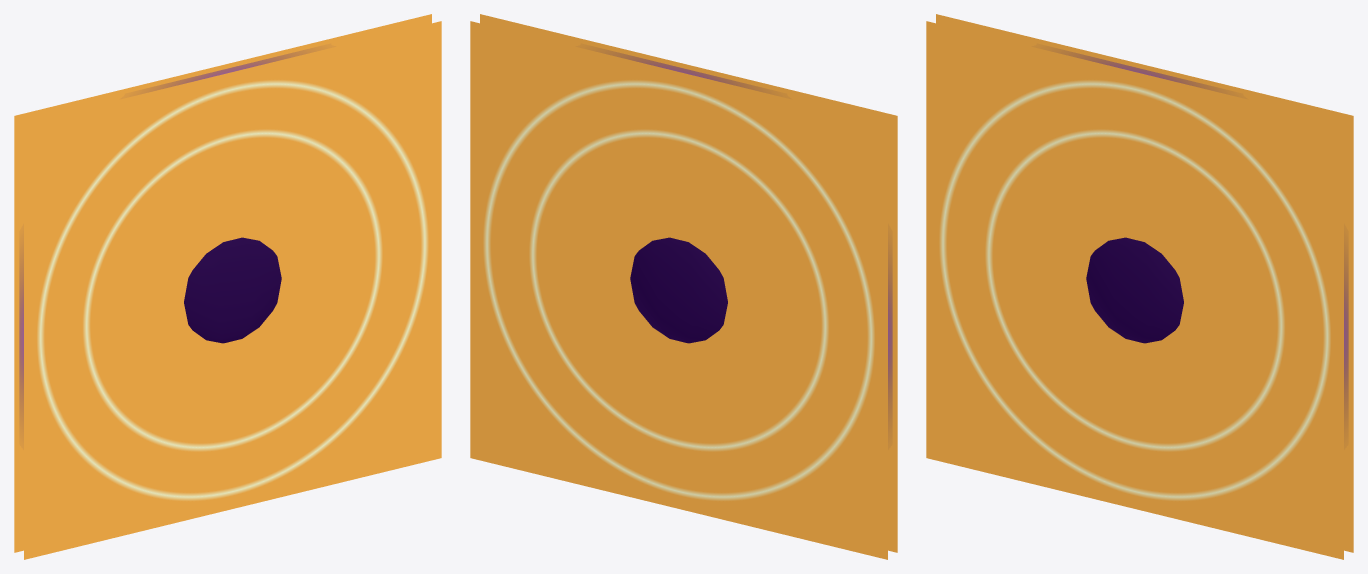
Rendered from fx_wormhole.glb.
3 renders of one model, left to right at view 1: azimuth 30°, elevation 25°; view 2: azimuth 150°, elevation 25°; view 3: azimuth 330°, elevation 25°, orthographic.
Visible parts, largest first — view 1: fx_wh_ring, fx_wh_core, fx_wh_swirl; view 2: fx_wh_ring, fx_wh_core, fx_wh_swirl; view 3: fx_wh_ring, fx_wh_core, fx_wh_swirl.
Boxes of the visible parts, bbox=[...] form: fx_wh_ring: bbox=[14, 14, 441, 559]; fx_wh_core: bbox=[184, 237, 281, 343]; fx_wh_swirl: bbox=[19, 49, 311, 426]; fx_wh_ring: bbox=[470, 14, 897, 559]; fx_wh_core: bbox=[630, 237, 727, 343]; fx_wh_swirl: bbox=[600, 49, 892, 426]; fx_wh_ring: bbox=[926, 14, 1353, 559]; fx_wh_core: bbox=[1086, 237, 1183, 343]; fx_wh_swirl: bbox=[1056, 49, 1348, 426].
Size of the model in its own units: 1 by 1 by 0.0761.
3 materials, 2 textured.
